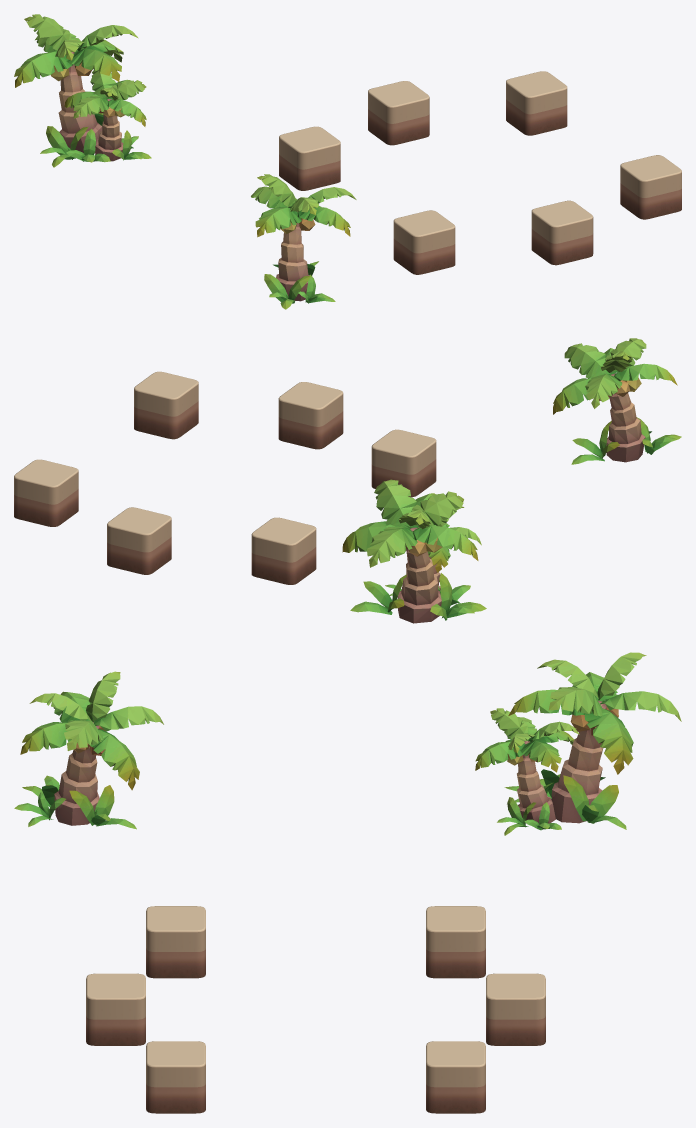
File: Props.fbx
3 renders of one model, top to bottom at view 1: azimuth 30°, elevation 25°; view 2: azimuth 150°, elevation 25°; view 3: azimuth 270°, elevation 25°, orthographic. The views are drawn at different scales.
Parts seen in each view (by area): view 1: yezishu01, yezishu02, Box01, Box01 (4), Box01 (1), Box01 (3), Box01 (5), Box01 (2); view 2: yezishu01, yezishu02, Box01 (2), Box01 (4), Box01 (1), Box01 (5), Box01 (3), Box01; view 3: yezishu01, yezishu02, Box01 (1), Box01 (3), Box01 (4), Box01 (5), Box01, Box01 (2).
Boxes of the visible parts, left/top/right/bottom form: yezishu01: left=14, top=14, right=151, bottom=167; yezishu02: left=251, top=174, right=356, bottom=309; Box01: left=393, top=210, right=455, bottom=274; Box01 (4): left=531, top=200, right=593, bottom=265; Box01 (1): left=620, top=155, right=681, bottom=219; Box01 (3): left=506, top=71, right=567, bottom=135; Box01 (5): left=368, top=81, right=429, bottom=145; Box01 (2): left=279, top=126, right=340, bottom=190; yezishu01: left=342, top=479, right=486, bottom=623; yezishu02: left=553, top=338, right=681, bottom=464; Box01 (2): left=251, top=517, right=316, bottom=584; Box01 (4): left=278, top=382, right=343, bottom=449; Box01 (1): left=134, top=371, right=198, bottom=439; Box01 (5): left=107, top=507, right=171, bottom=574; Box01 (3): left=14, top=459, right=78, bottom=526; Box01: left=371, top=429, right=436, bottom=497; yezishu01: left=475, top=652, right=681, bottom=835; yezishu02: left=14, top=671, right=163, bottom=829; Box01 (1): left=146, top=1041, right=205, bottom=1113; Box01 (3): left=426, top=1041, right=485, bottom=1113; Box01 (4): left=86, top=973, right=145, bottom=1045; Box01 (5): left=486, top=973, right=545, bottom=1045; Box01: left=146, top=906, right=205, bottom=978; Box01 (2): left=426, top=906, right=485, bottom=978.
Size of the model in its own units: 34.45 by 10.64 by 33.42.
2 materials, 2 textured.
